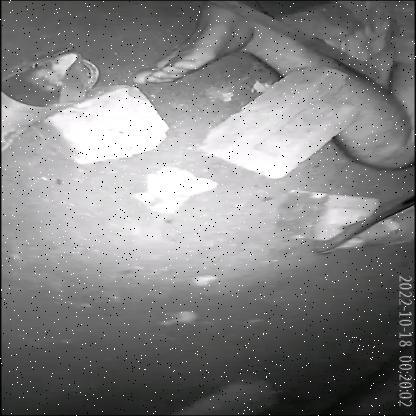leg: (127, 0, 416, 183)
